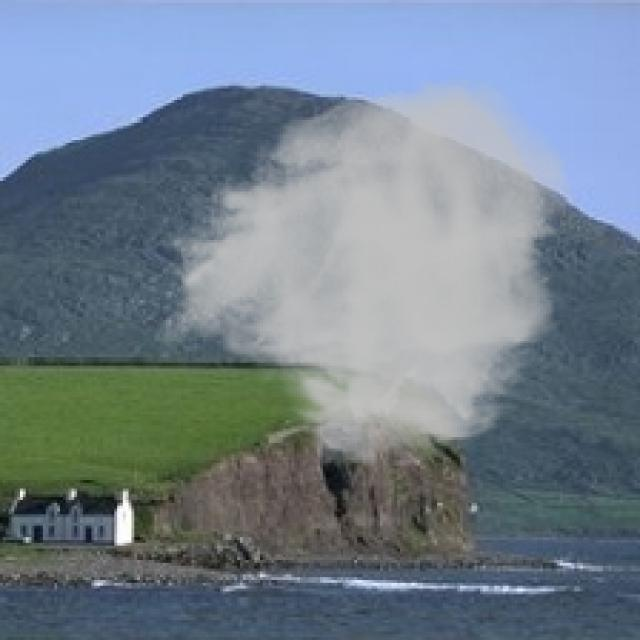smoke: (152, 74, 577, 472)
